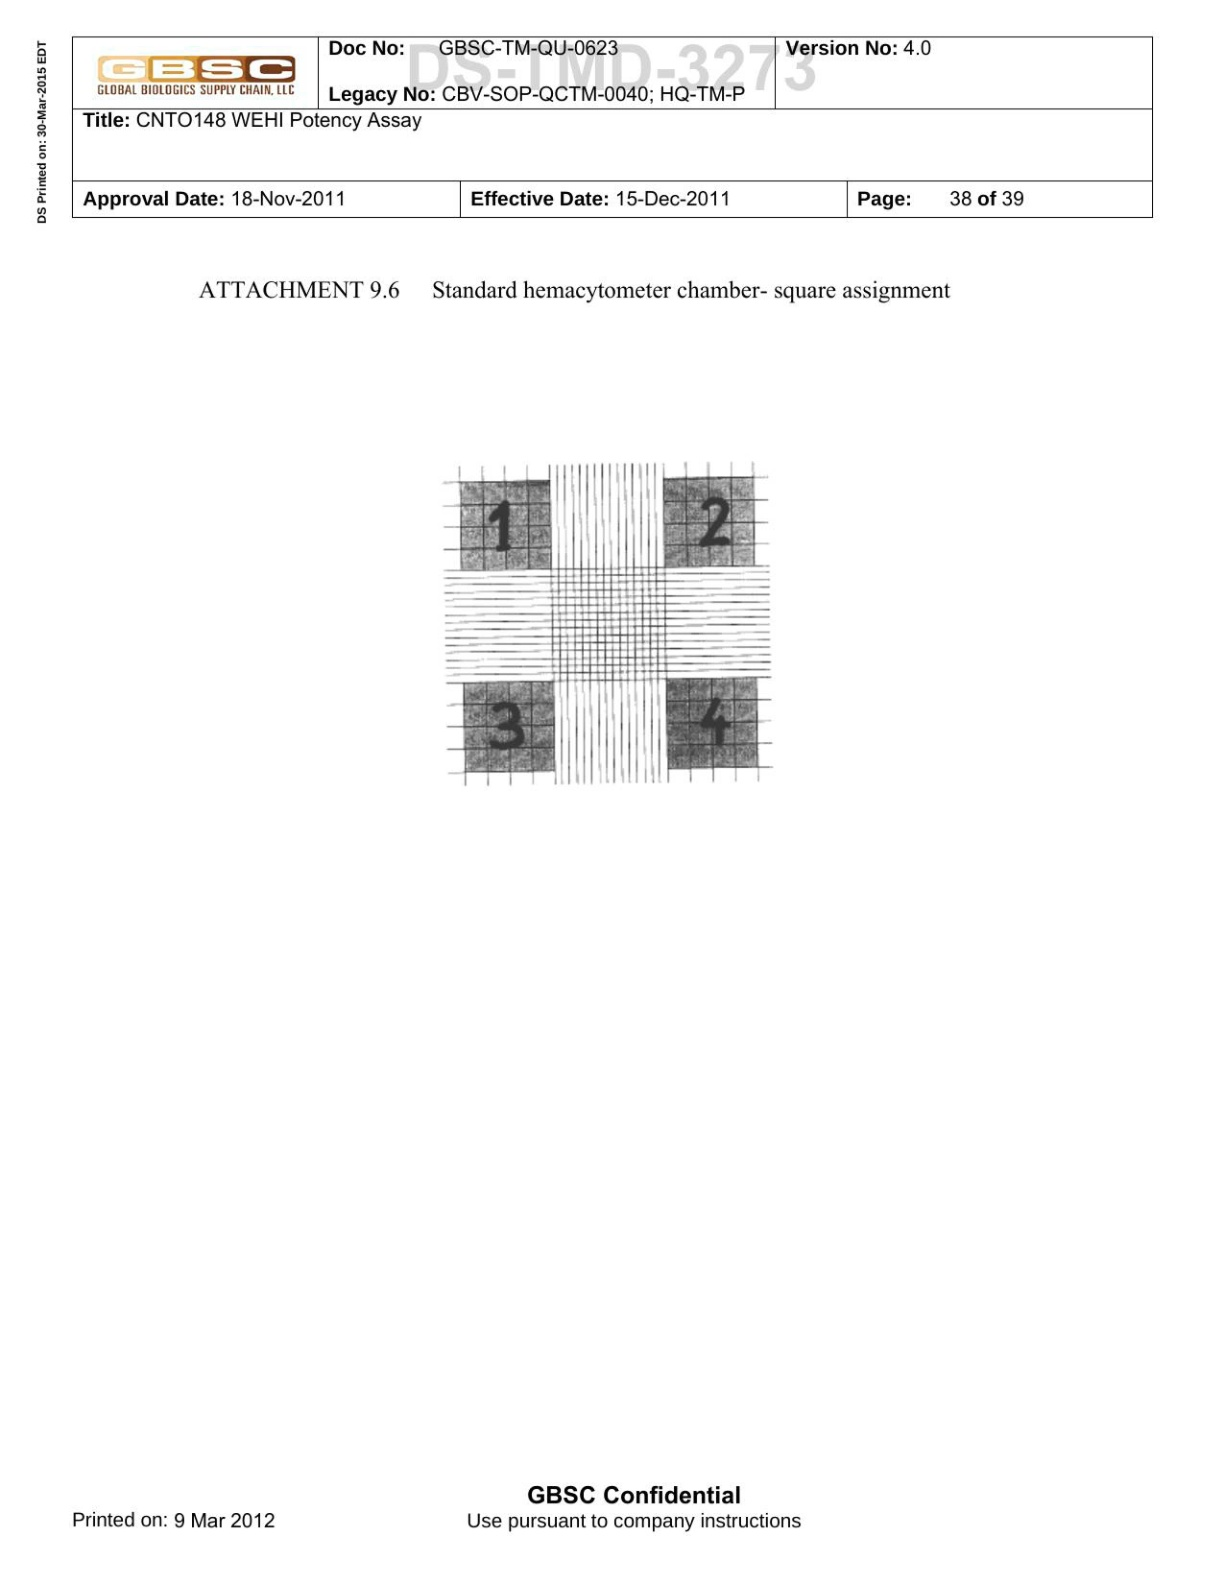merged_cells: (69, 35, 1155, 219)
